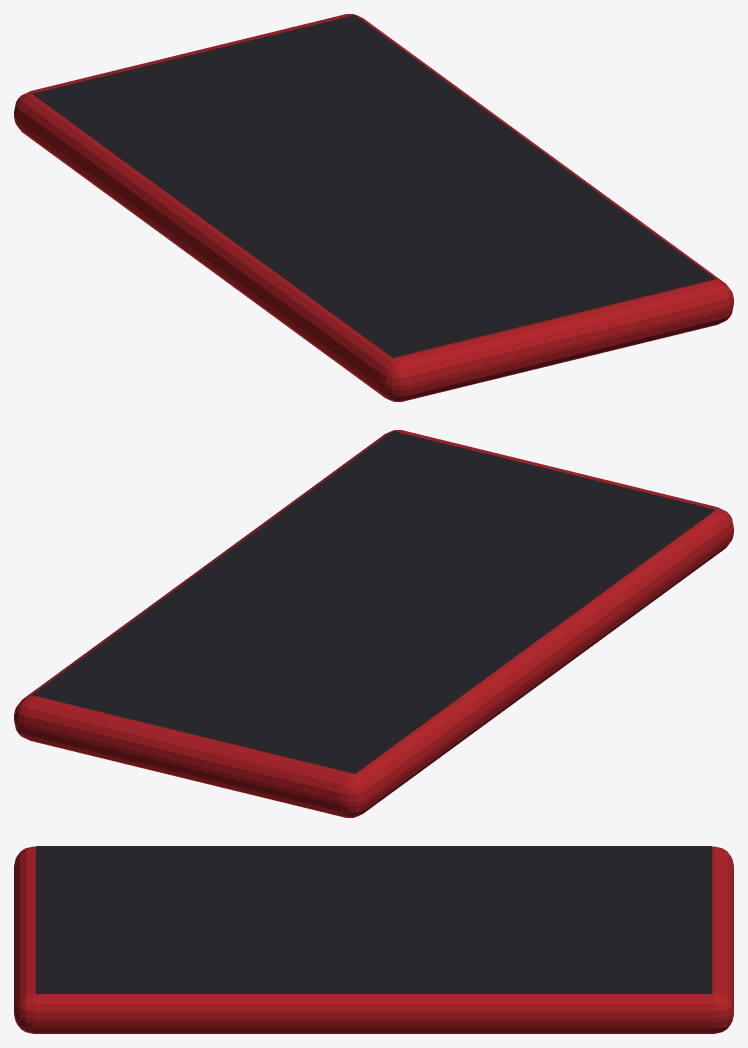
File: Phone_176.glb
3 views of the same model, one above another, from view 1: azimuth 30°, elevation 25°; view 2: azimuth 150°, elevation 25°; view 3: azimuth 270°, elevation 25° (orthographic). The views are drawn at different scales.
Visible parts, largest first — view 1: Phone_Screen, Phone_Body; view 2: Phone_Screen, Phone_Body; view 3: Phone_Screen, Phone_Body.
Part boxes in pixels (box(x1,y1,x2,y2)): Phone_Screen: box(32, 15, 715, 357); Phone_Body: box(14, 14, 733, 401); Phone_Screen: box(32, 431, 715, 773); Phone_Body: box(14, 430, 733, 817); Phone_Screen: box(35, 846, 712, 993); Phone_Body: box(14, 846, 733, 1033).
Bounding box in the file's own units: 0.0795 × 0.0092 × 0.1504.
